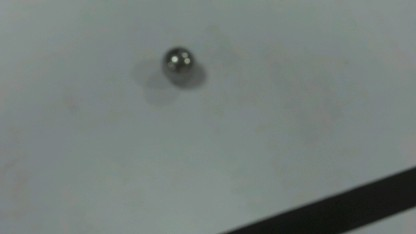ironball: (155, 43, 202, 80)
